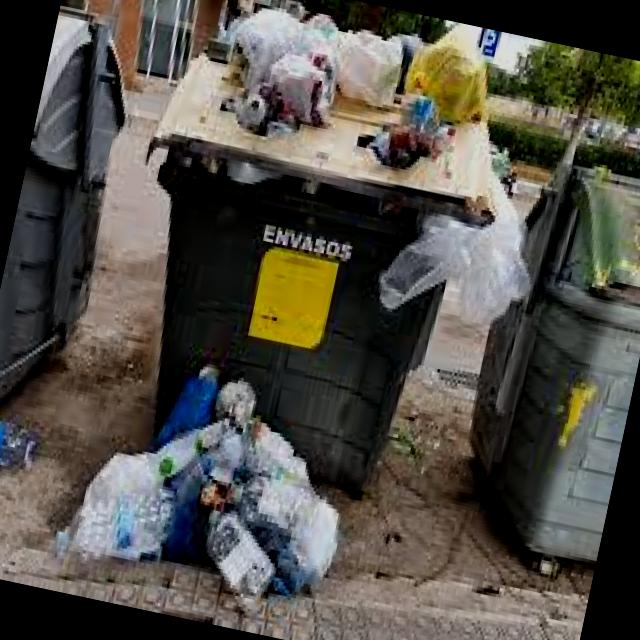garbage: (15, 0, 551, 632)
